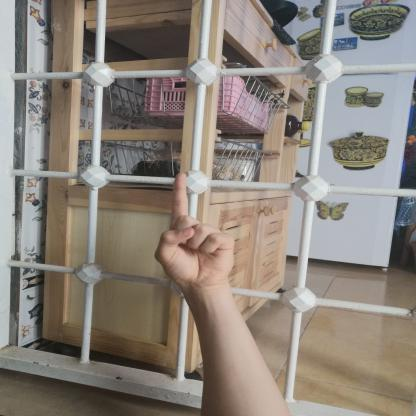BAA: (147, 164, 242, 299)
